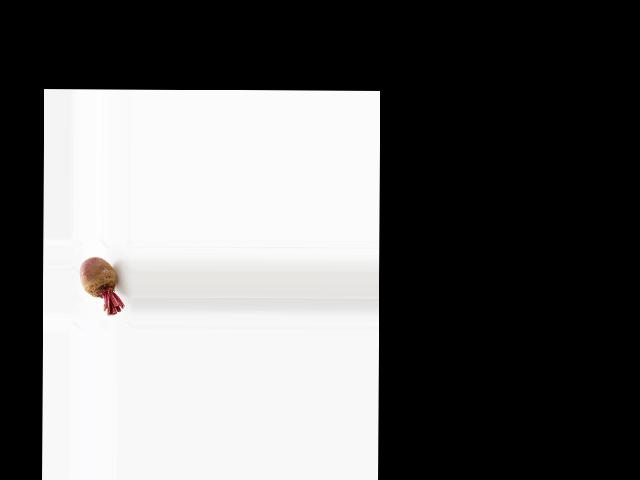beet: (79, 256, 125, 315)
